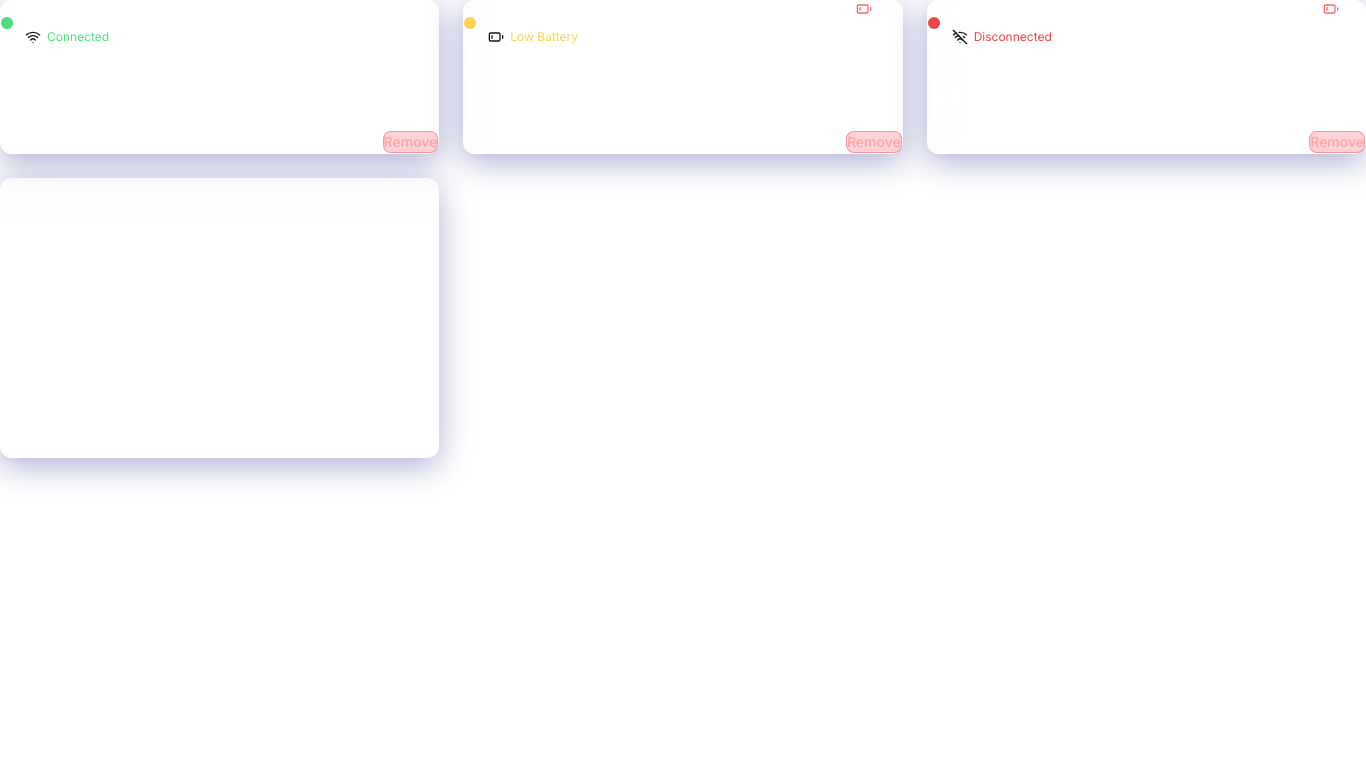
it: DevicesList › View Details › should open device details modal when view details button clicked
Click the button with test id "view-details-button" at (188, 142), box [1,131,375,153]
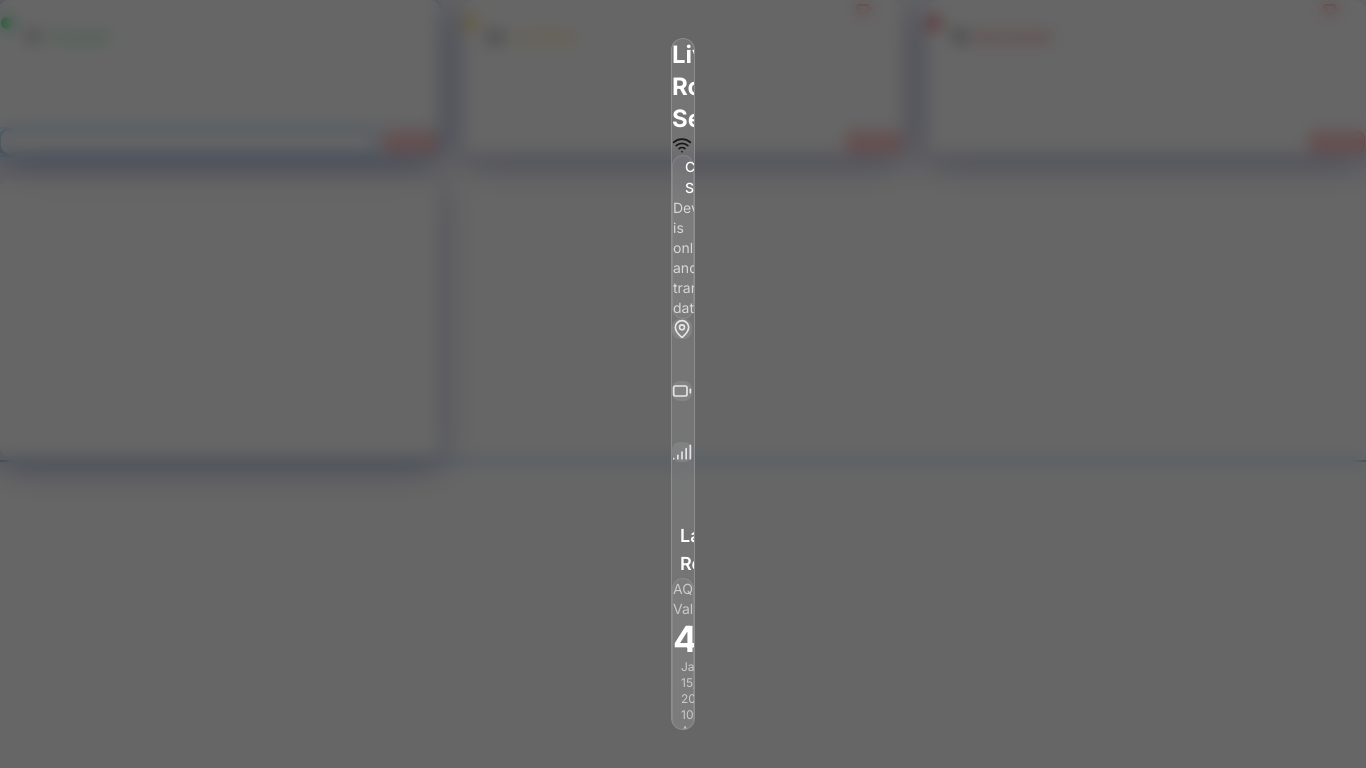
Now the element with test id "device-details-modal" is shown
